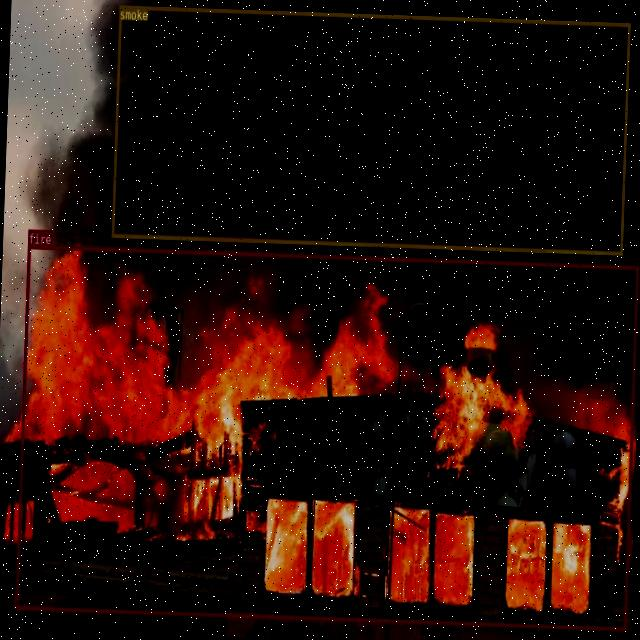fire: (15, 244, 638, 630)
smoke: (110, 4, 629, 254)
